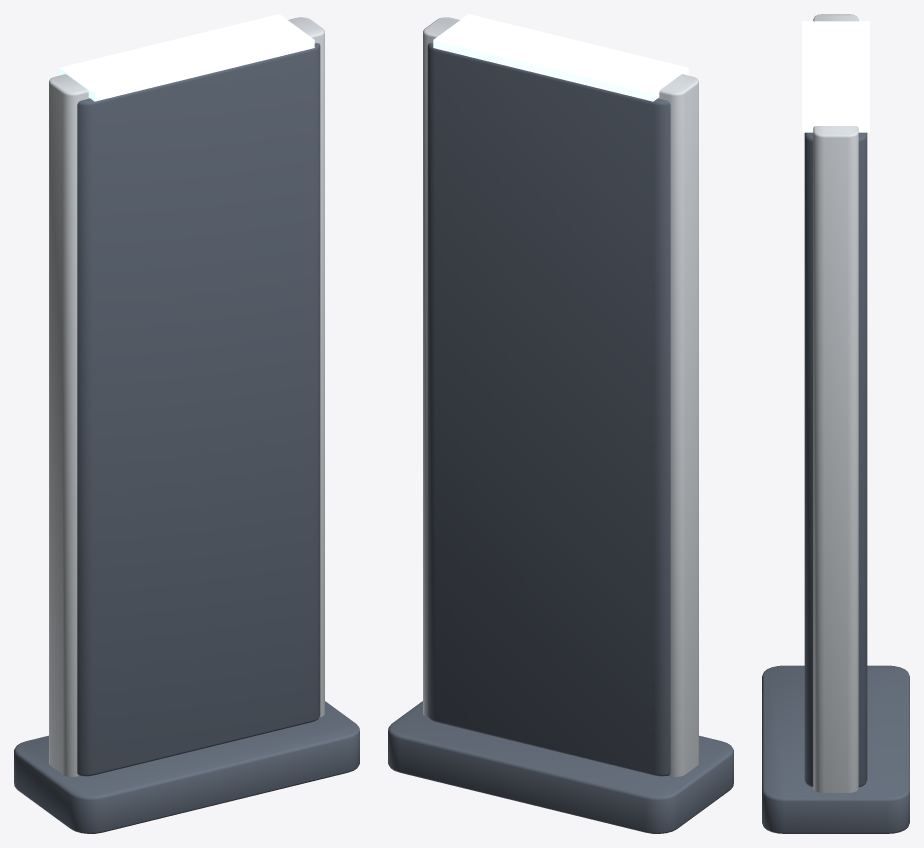
The model's file is digital_totem_v27_3.glb.
3 renders of one model, left to right at view 1: azimuth 30°, elevation 25°; view 2: azimuth 150°, elevation 25°; view 3: azimuth 270°, elevation 25°, orthographic. The views are drawn at different scales.
Visible parts, largest first — view 1: V273_DigitalTotem_Totem_Graphite, V273_DigitalTotem_Totem_Brushed_Alu, V273_DigitalTotem_Totem_Cyan_LED; view 2: V273_DigitalTotem_Totem_Graphite, V273_DigitalTotem_Totem_Brushed_Alu, V273_DigitalTotem_Totem_Cyan_LED; view 3: V273_DigitalTotem_Totem_Brushed_Alu, V273_DigitalTotem_Totem_Graphite, V273_DigitalTotem_Totem_Cyan_LED.
Boxes of the visible parts, left/top/right/bottom form: V273_DigitalTotem_Totem_Graphite: left=14, top=43, right=359, bottom=833; V273_DigitalTotem_Totem_Brushed_Alu: left=49, top=17, right=324, bottom=776; V273_DigitalTotem_Totem_Cyan_LED: left=59, top=14, right=314, bottom=101; V273_DigitalTotem_Totem_Graphite: left=388, top=43, right=733, bottom=833; V273_DigitalTotem_Totem_Brushed_Alu: left=423, top=17, right=698, bottom=776; V273_DigitalTotem_Totem_Cyan_LED: left=433, top=14, right=688, bottom=101; V273_DigitalTotem_Totem_Brushed_Alu: left=813, top=14, right=858, bottom=792; V273_DigitalTotem_Totem_Graphite: left=762, top=132, right=909, bottom=833; V273_DigitalTotem_Totem_Cyan_LED: left=802, top=21, right=869, bottom=132.
Size of the model in its own units: 1.12 by 2.7 by 0.52.
